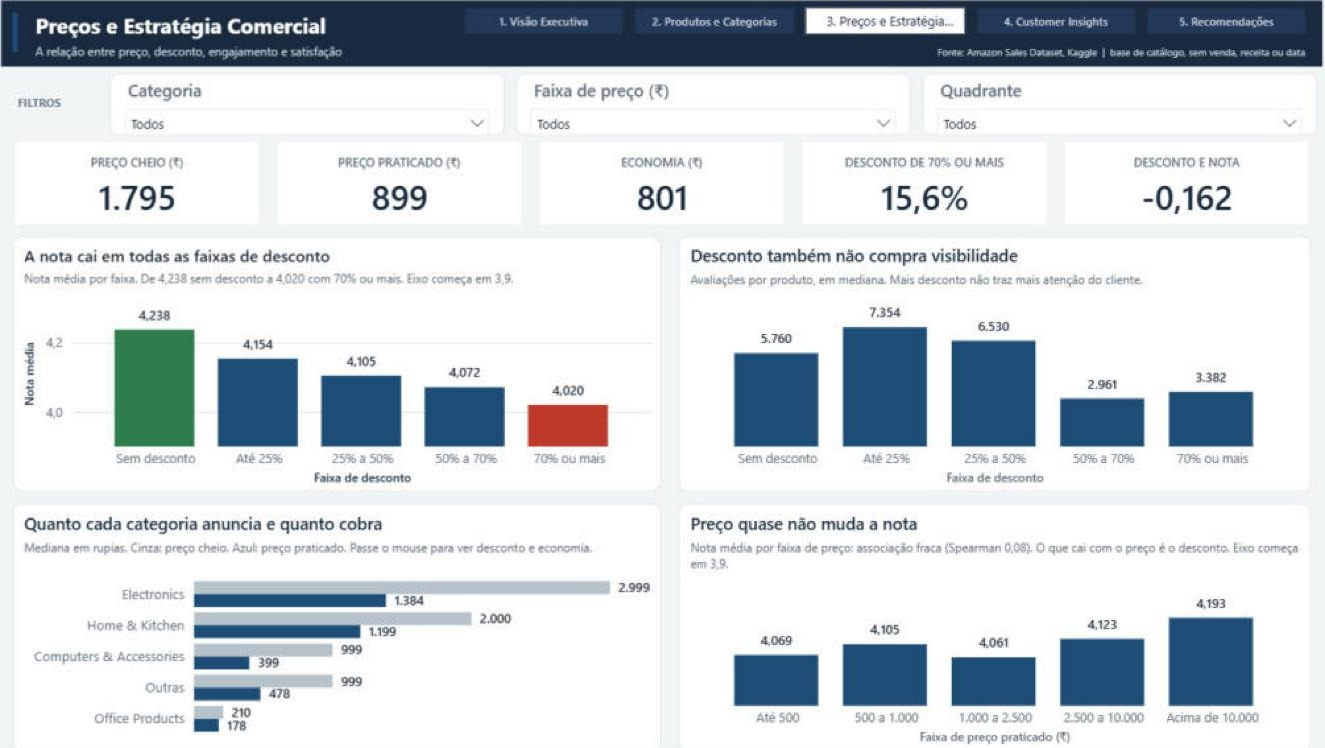

The dashboard page shown, as its layout file describes it:
{"tool":"powerbi","page":{"name":"3. Preços e Estratégia Comercial","canvas":[1280,720],"ordinal":2},"visuals":[{"type":"basicShape","box":[0,0,1280,64],"z":0},{"type":"basicShape","box":[0,64,1280,2],"z":1000},{"type":"basicShape","box":[24,12,5,38],"z":2000},{"type":"textbox","box":[40,6,400,41],"z":3000},{"type":"textbox","box":[40,36,760,28],"z":4000},{"type":"textbox","box":[800,36,456,26],"z":6000},{"type":"textbox","box":[24,84,84,28],"z":7000},{"type":"slicer","fields":{"Values":["fProdutos.categoria_n1_agrupada"]},"box":[116,70,374,58],"z":8000},{"type":"slicer","fields":{"Values":["fProdutos.faixa_preco"]},"box":[502,70,374,58],"z":9000},{"type":"columnChart","title":"Preço quase não muda a nota","fields":{"Category":["fProdutos.faixa_preco"],"Y":["fProdutos.Nota Media Simples"]},"box":[656,478,600,234],"z":9000},{"type":"slicer","fields":{"Values":["fProdutos.quadrante"]},"box":[888,70,374,58],"z":10000},{"type":"basicShape","box":[24,134,236,80],"z":11000},{"type":"basicShape","box":[24,134,236,4],"z":12000},{"type":"card","title":"PREÇO CHEIO (₹)","fields":{"Values":["fProdutos.Preco Cheio Mediano"]},"box":[24,140,236,74],"z":13000},{"type":"basicShape","box":[273,134,236,80],"z":14000},{"type":"basicShape","box":[273,134,236,4],"z":15000},{"type":"card","title":"PREÇO PRATICADO (₹)","fields":{"Values":["fProdutos.Preco Mediano Praticado"]},"box":[273,140,236,74],"z":16000},{"type":"basicShape","box":[522,134,236,80],"z":17000},{"type":"basicShape","box":[522,134,236,4],"z":18000},{"type":"card","title":"ECONOMIA (₹)","fields":{"Values":["fProdutos.Economia Mediana"]},"box":[522,140,236,74],"z":19000},{"type":"basicShape","box":[771,134,236,80],"z":20000},{"type":"basicShape","box":[771,134,236,4],"z":21000},{"type":"card","title":"DESCONTO DE 70% OU MAIS","fields":{"Values":["fProdutos.Desconto Alto %"]},"box":[771,140,236,74],"z":22000},{"type":"basicShape","box":[1020,134,236,80],"z":23000},{"type":"basicShape","box":[1020,134,236,4],"z":24000},{"type":"card","title":"DESCONTO E NOTA","fields":{"Values":["fProdutos.Correlacao Desconto e Nota"]},"box":[1020,140,236,74],"z":25000},{"type":"columnChart","title":"A nota cai em todas as faixas de desconto","fields":{"Category":["fProdutos.faixa_desconto"],"Y":["fProdutos.Nota Media Simples"]},"box":[24,224,616,242],"z":26000},{"type":"columnChart","title":"Desconto também não compra visibilidade","fields":{"Category":["fProdutos.faixa_desconto"],"Y":["fProdutos.Avaliacoes Medianas por Produto"]},"box":[656,224,600,242],"z":27000},{"type":"clusteredBarChart","title":"Quanto cada categoria anuncia e quanto cobra","fields":{"Category":["fProdutos.categoria_n1_agrupada"],"Y":["fProdutos.Preco Cheio Mediano","fProdutos.Preco Mediano Praticado"]},"box":[24,478,616,234],"z":28000},{"type":"pageNavigator","box":[452,7,804,26],"z":60000}]}

Visuals, with their boxes in screenshot pixels (x1, y1, x2, y2), scaled from the page's 1280x720 canvas onto the 1325x748 screenshot:
basicShape: select_region(0, 0, 1324, 66)
basicShape: select_region(0, 66, 1324, 69)
basicShape: select_region(25, 12, 30, 52)
textbox: select_region(41, 6, 455, 49)
textbox: select_region(41, 37, 828, 66)
textbox: select_region(828, 37, 1300, 64)
textbox: select_region(25, 87, 112, 116)
slicer - fProdutos.categoria_n1_agrupada: select_region(120, 73, 507, 133)
slicer - fProdutos.faixa_preco: select_region(520, 73, 907, 133)
"Preço quase não muda a nota" columnChart: select_region(679, 497, 1300, 740)
slicer - fProdutos.quadrante: select_region(919, 73, 1306, 133)
basicShape: select_region(25, 139, 269, 222)
basicShape: select_region(25, 139, 269, 143)
"PREÇO CHEIO (₹)" card: select_region(25, 145, 269, 222)
basicShape: select_region(283, 139, 527, 222)
basicShape: select_region(283, 139, 527, 143)
"PREÇO PRATICADO (₹)" card: select_region(283, 145, 527, 222)
basicShape: select_region(540, 139, 785, 222)
basicShape: select_region(540, 139, 785, 143)
"ECONOMIA (₹)" card: select_region(540, 145, 785, 222)
basicShape: select_region(798, 139, 1042, 222)
basicShape: select_region(798, 139, 1042, 143)
"DESCONTO DE 70% OU MAIS" card: select_region(798, 145, 1042, 222)
basicShape: select_region(1056, 139, 1300, 222)
basicShape: select_region(1056, 139, 1300, 143)
"DESCONTO E NOTA" card: select_region(1056, 145, 1300, 222)
"A nota cai em todas as faixas de desconto" columnChart: select_region(25, 233, 662, 484)
"Desconto também não compra visibilidade" columnChart: select_region(679, 233, 1300, 484)
"Quanto cada categoria anuncia e quanto cobra" clusteredBarChart: select_region(25, 497, 662, 740)
pageNavigator: select_region(468, 7, 1300, 34)
